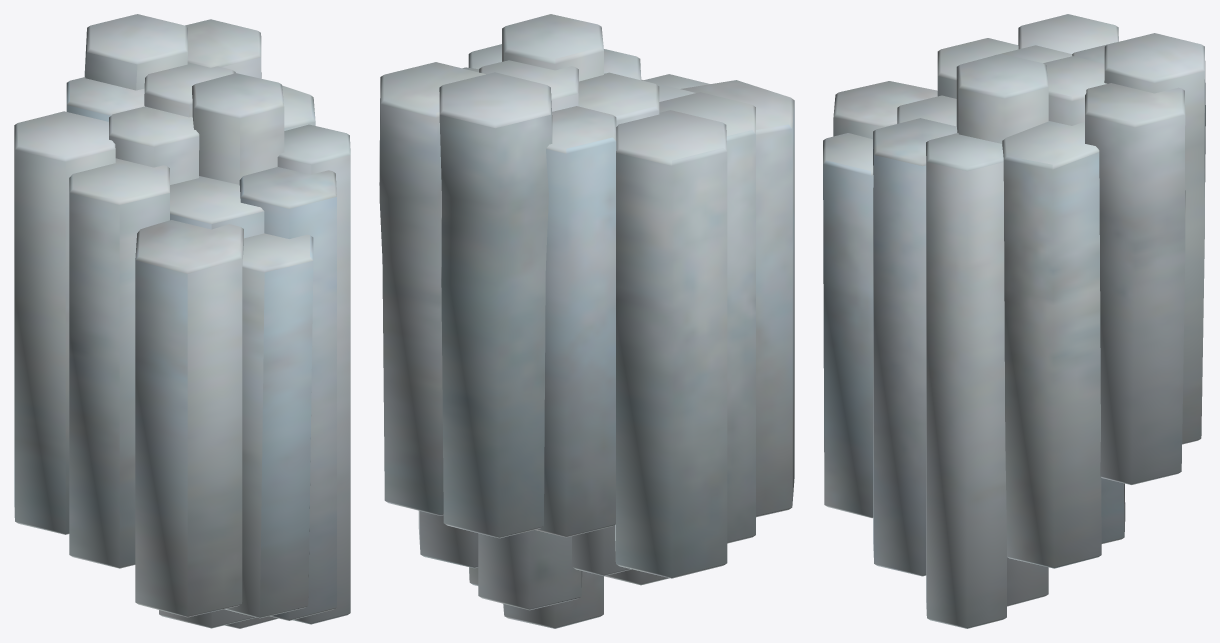
File: P_RockHexic_Rocks10.obj
3 views of the same model, side by side, from view 1: azimuth 30°, elevation 25°; view 2: azimuth 150°, elevation 25°; view 3: azimuth 270°, elevation 25° (orthographic). The views are drawn at different scales.
Size of the model in its own units: 12.03 by 20.61 by 13.77.
